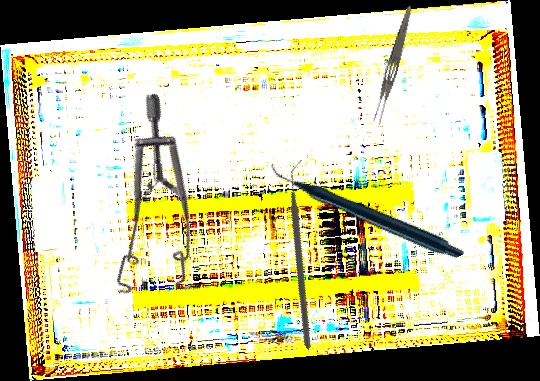Chopper: (214, 159, 395, 350)
Dressing Forceps: (370, 3, 415, 126)
Handpiece: (270, 103, 465, 316)
Speculum: (42, 89, 247, 323)
